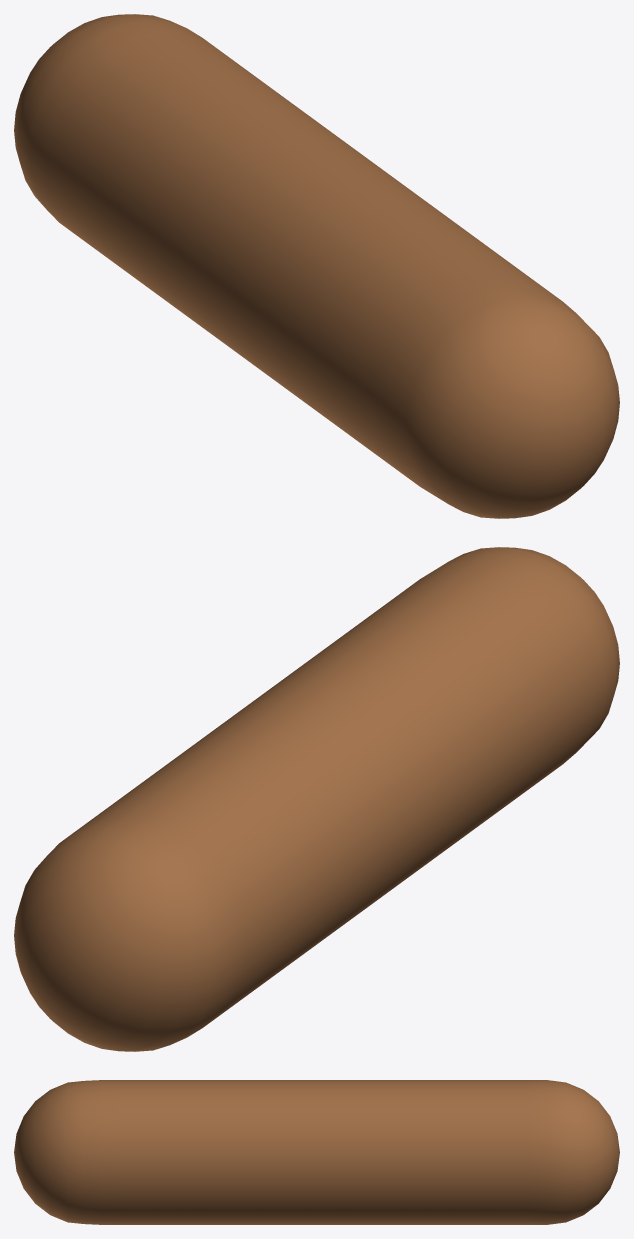
The model's file is Duo-Limbus (Boneless).fbx.
3 renders of one model, top to bottom at view 1: azimuth 30°, elevation 25°; view 2: azimuth 150°, elevation 25°; view 3: azimuth 270°, elevation 25°, orthographic. The views are drawn at different scales.
Parts seen in each view (by area): view 1: Duo-Limbus - Daniel Lochner; view 2: Duo-Limbus - Daniel Lochner; view 3: Duo-Limbus - Daniel Lochner.
Boxes of the visible parts, x1=… form: Duo-Limbus - Daniel Lochner: x1=14, y1=14, x2=619, y2=518; Duo-Limbus - Daniel Lochner: x1=14, y1=547, x2=619, y2=1051; Duo-Limbus - Daniel Lochner: x1=14, y1=1080, x2=619, y2=1224.
Size of the model in its own units: 46.88 by 46.88 by 196.
